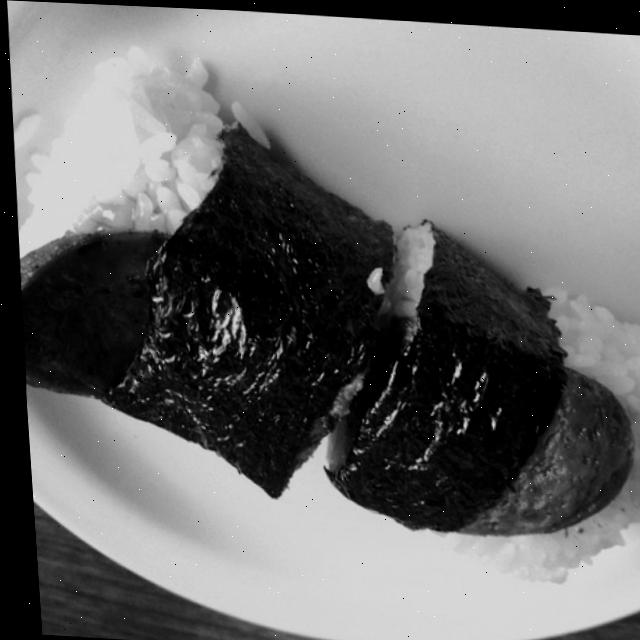寿司卷物: (3, 52, 640, 567)
